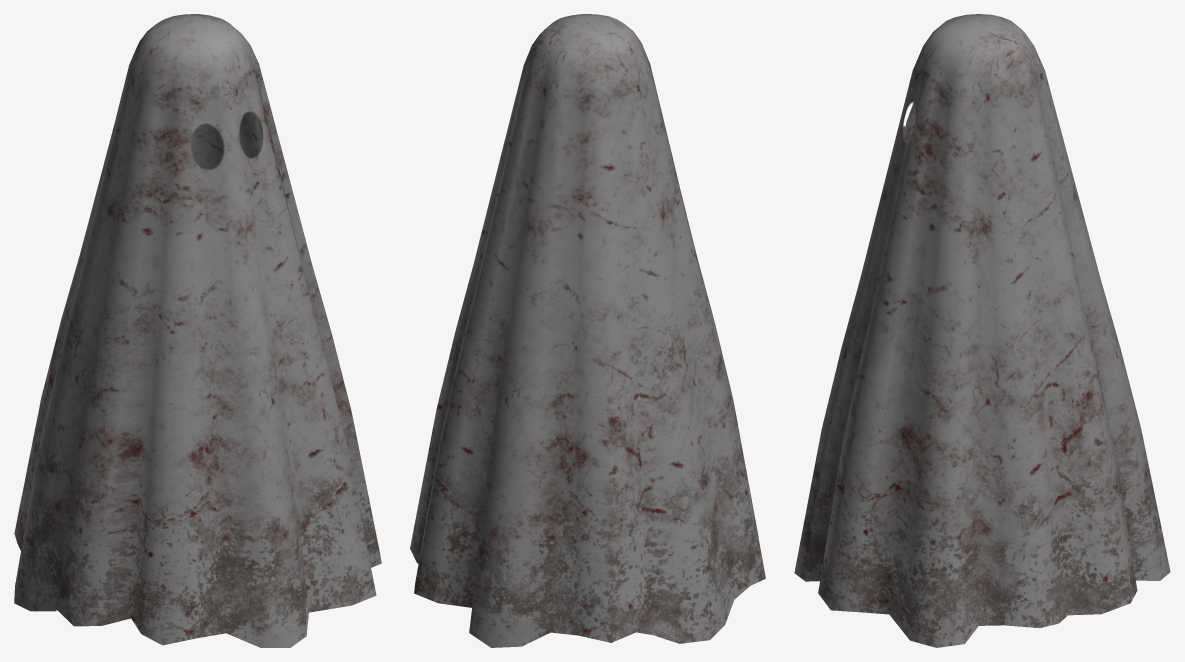
Rendered from low_poly_ghost.glb.
3 renders of one model, left to right at view 1: azimuth 30°, elevation 25°; view 2: azimuth 150°, elevation 25°; view 3: azimuth 270°, elevation 25°, orthographic.
Parts seen in each view (by area): view 1: pCylinder1; view 2: pCylinder1; view 3: pCylinder1.
Part boxes in pixels (bbox=[...]): pCylinder1: bbox=[14, 14, 381, 647]; pCylinder1: bbox=[410, 14, 765, 647]; pCylinder1: bbox=[794, 14, 1170, 647].
Bounding box in the file's own units: 106 × 182 × 111.
Materials: 1 (1 with a texture image).
